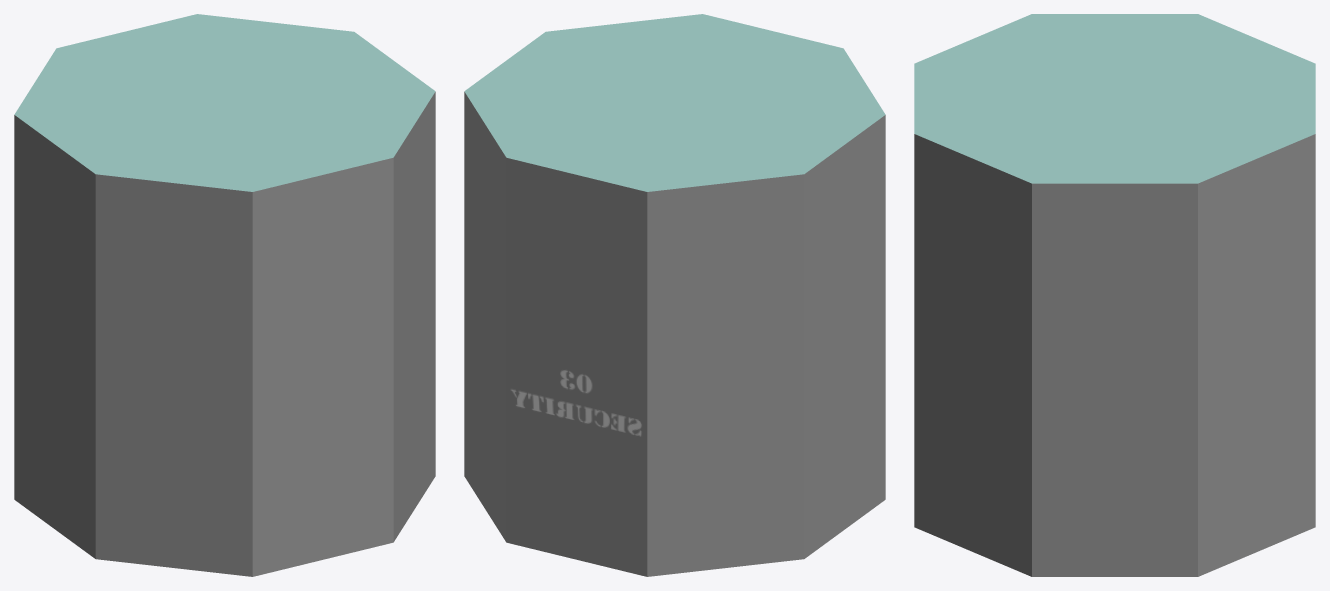
File: SM_Hub_Room_01.fbx
3 renders of one model, left to right at view 1: azimuth 30°, elevation 25°; view 2: azimuth 150°, elevation 25°; view 3: azimuth 270°, elevation 25°, orthographic. The views are drawn at different scales.
Visible parts, largest first — view 1: SM_Hub_Room_01; view 2: SM_Hub_Room_01; view 3: SM_Hub_Room_01.
Part boxes in pixels (bbox=[...]): SM_Hub_Room_01: bbox=[14, 14, 435, 576]; SM_Hub_Room_01: bbox=[464, 14, 885, 576]; SM_Hub_Room_01: bbox=[914, 14, 1315, 576].
Bounding box in the file's own units: 9.24 × 10 × 9.24.
